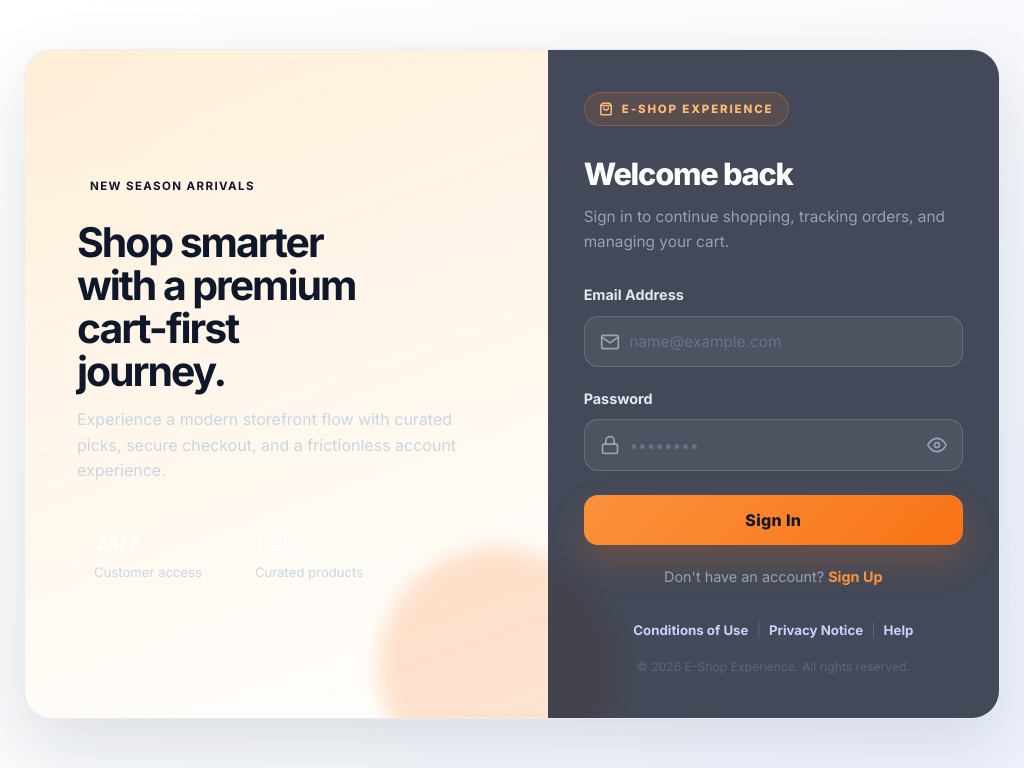
Test case: Login Page component tests › displays error message on failed sign in
In the field labelled "Email Address": (773, 342) [584,316,963,367], type "wrong@example.com"
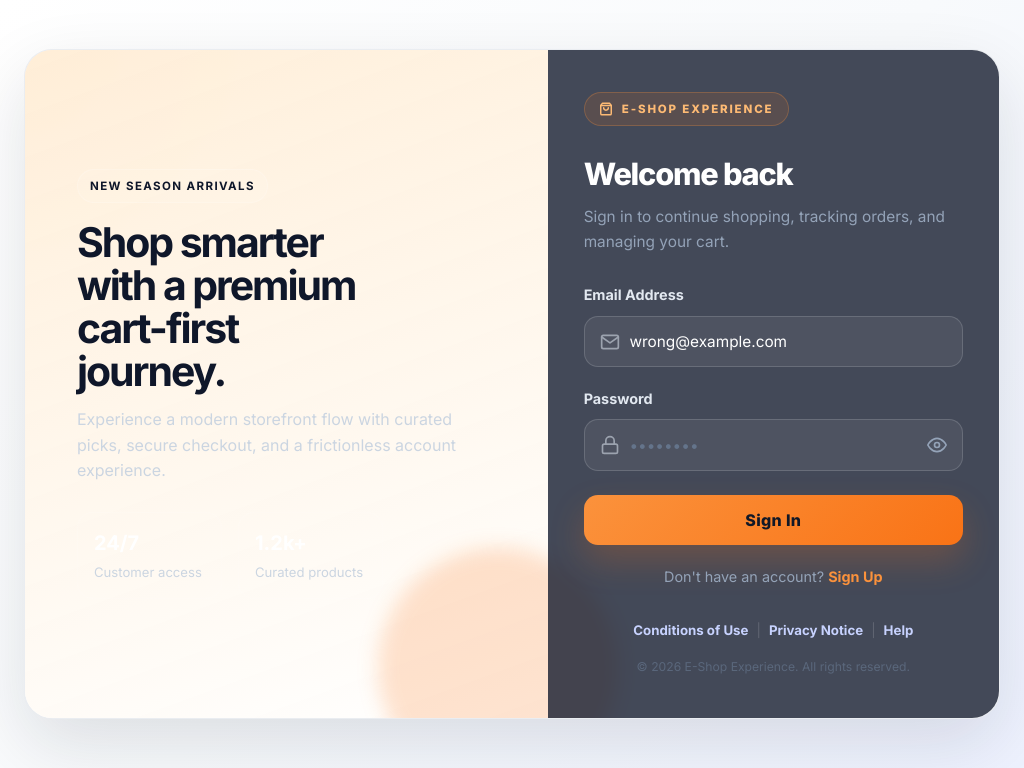
In the password field labelled "Password": (773, 445) [584,419,963,471], type "wrongpwd"
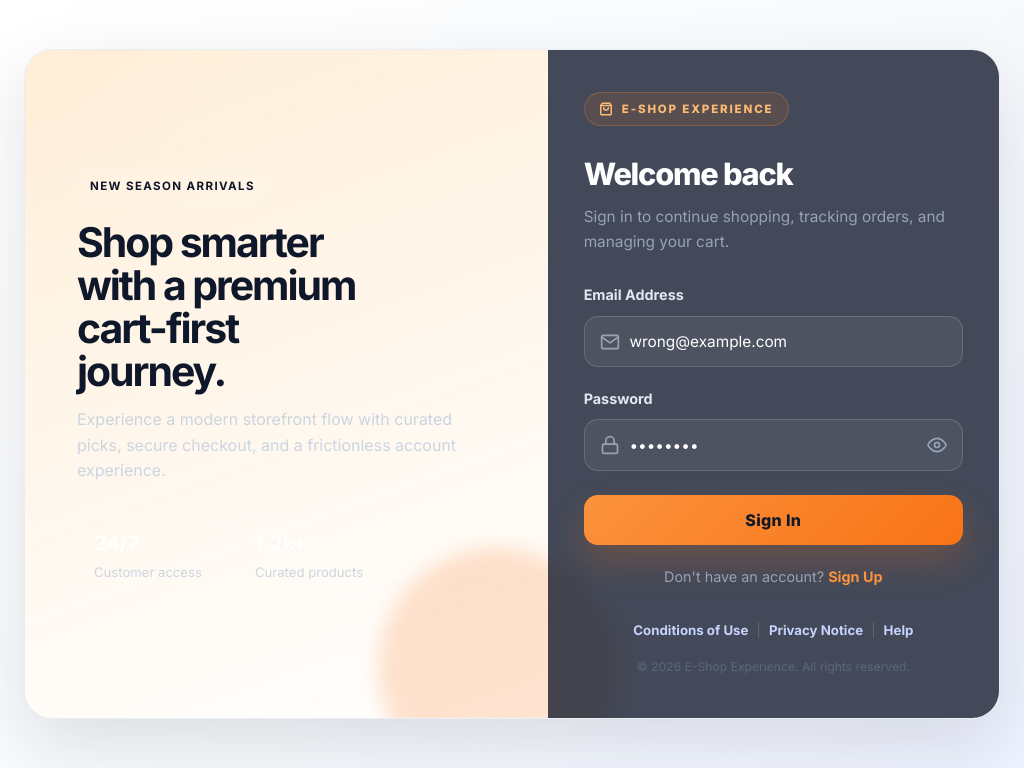
Click the button "Sign In": (773, 520) [584,495,963,545]
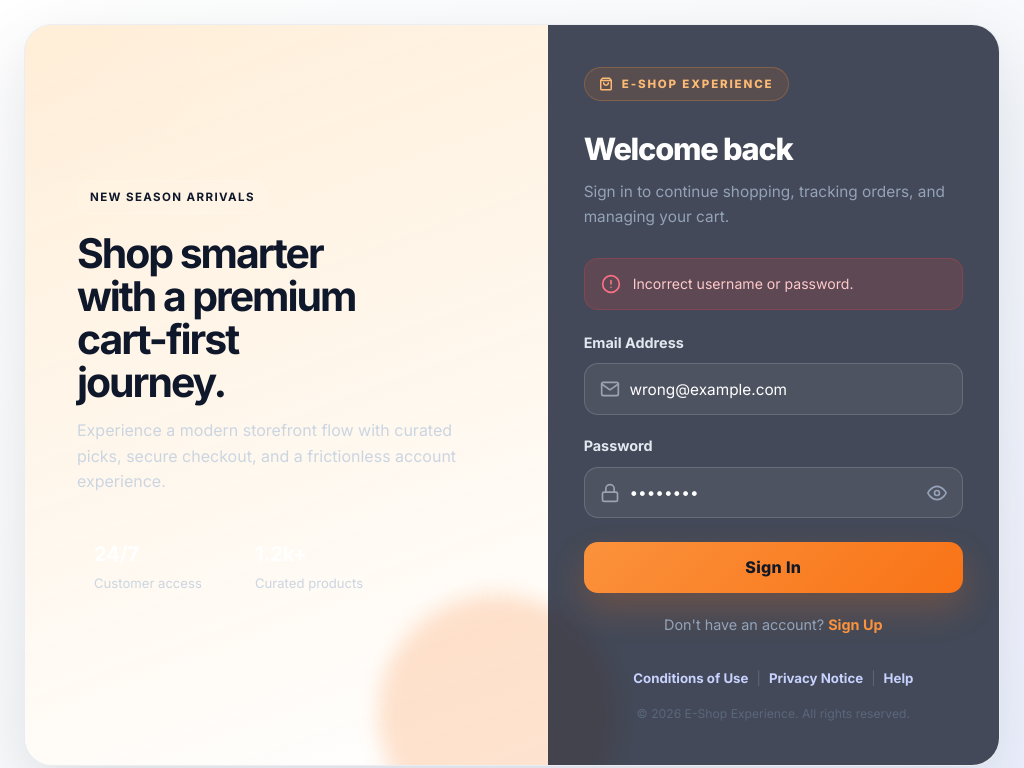
Now the text "Incorrect username or password." is shown, box [633,274,854,293]
